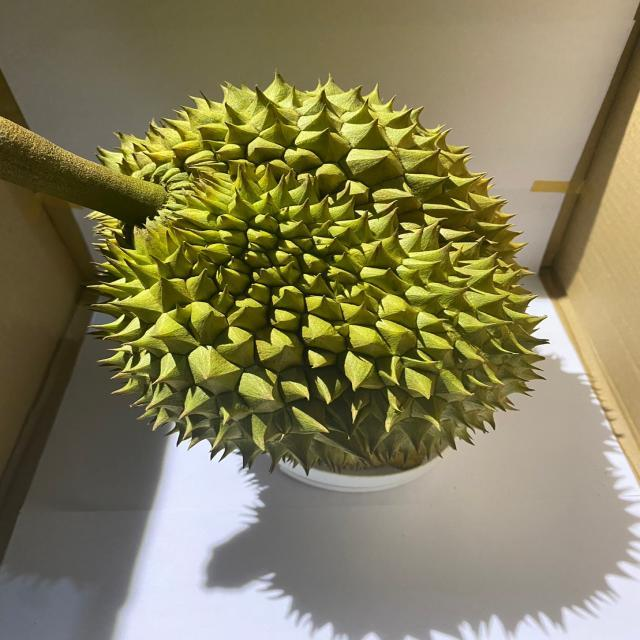immature: (79, 69, 550, 479)
